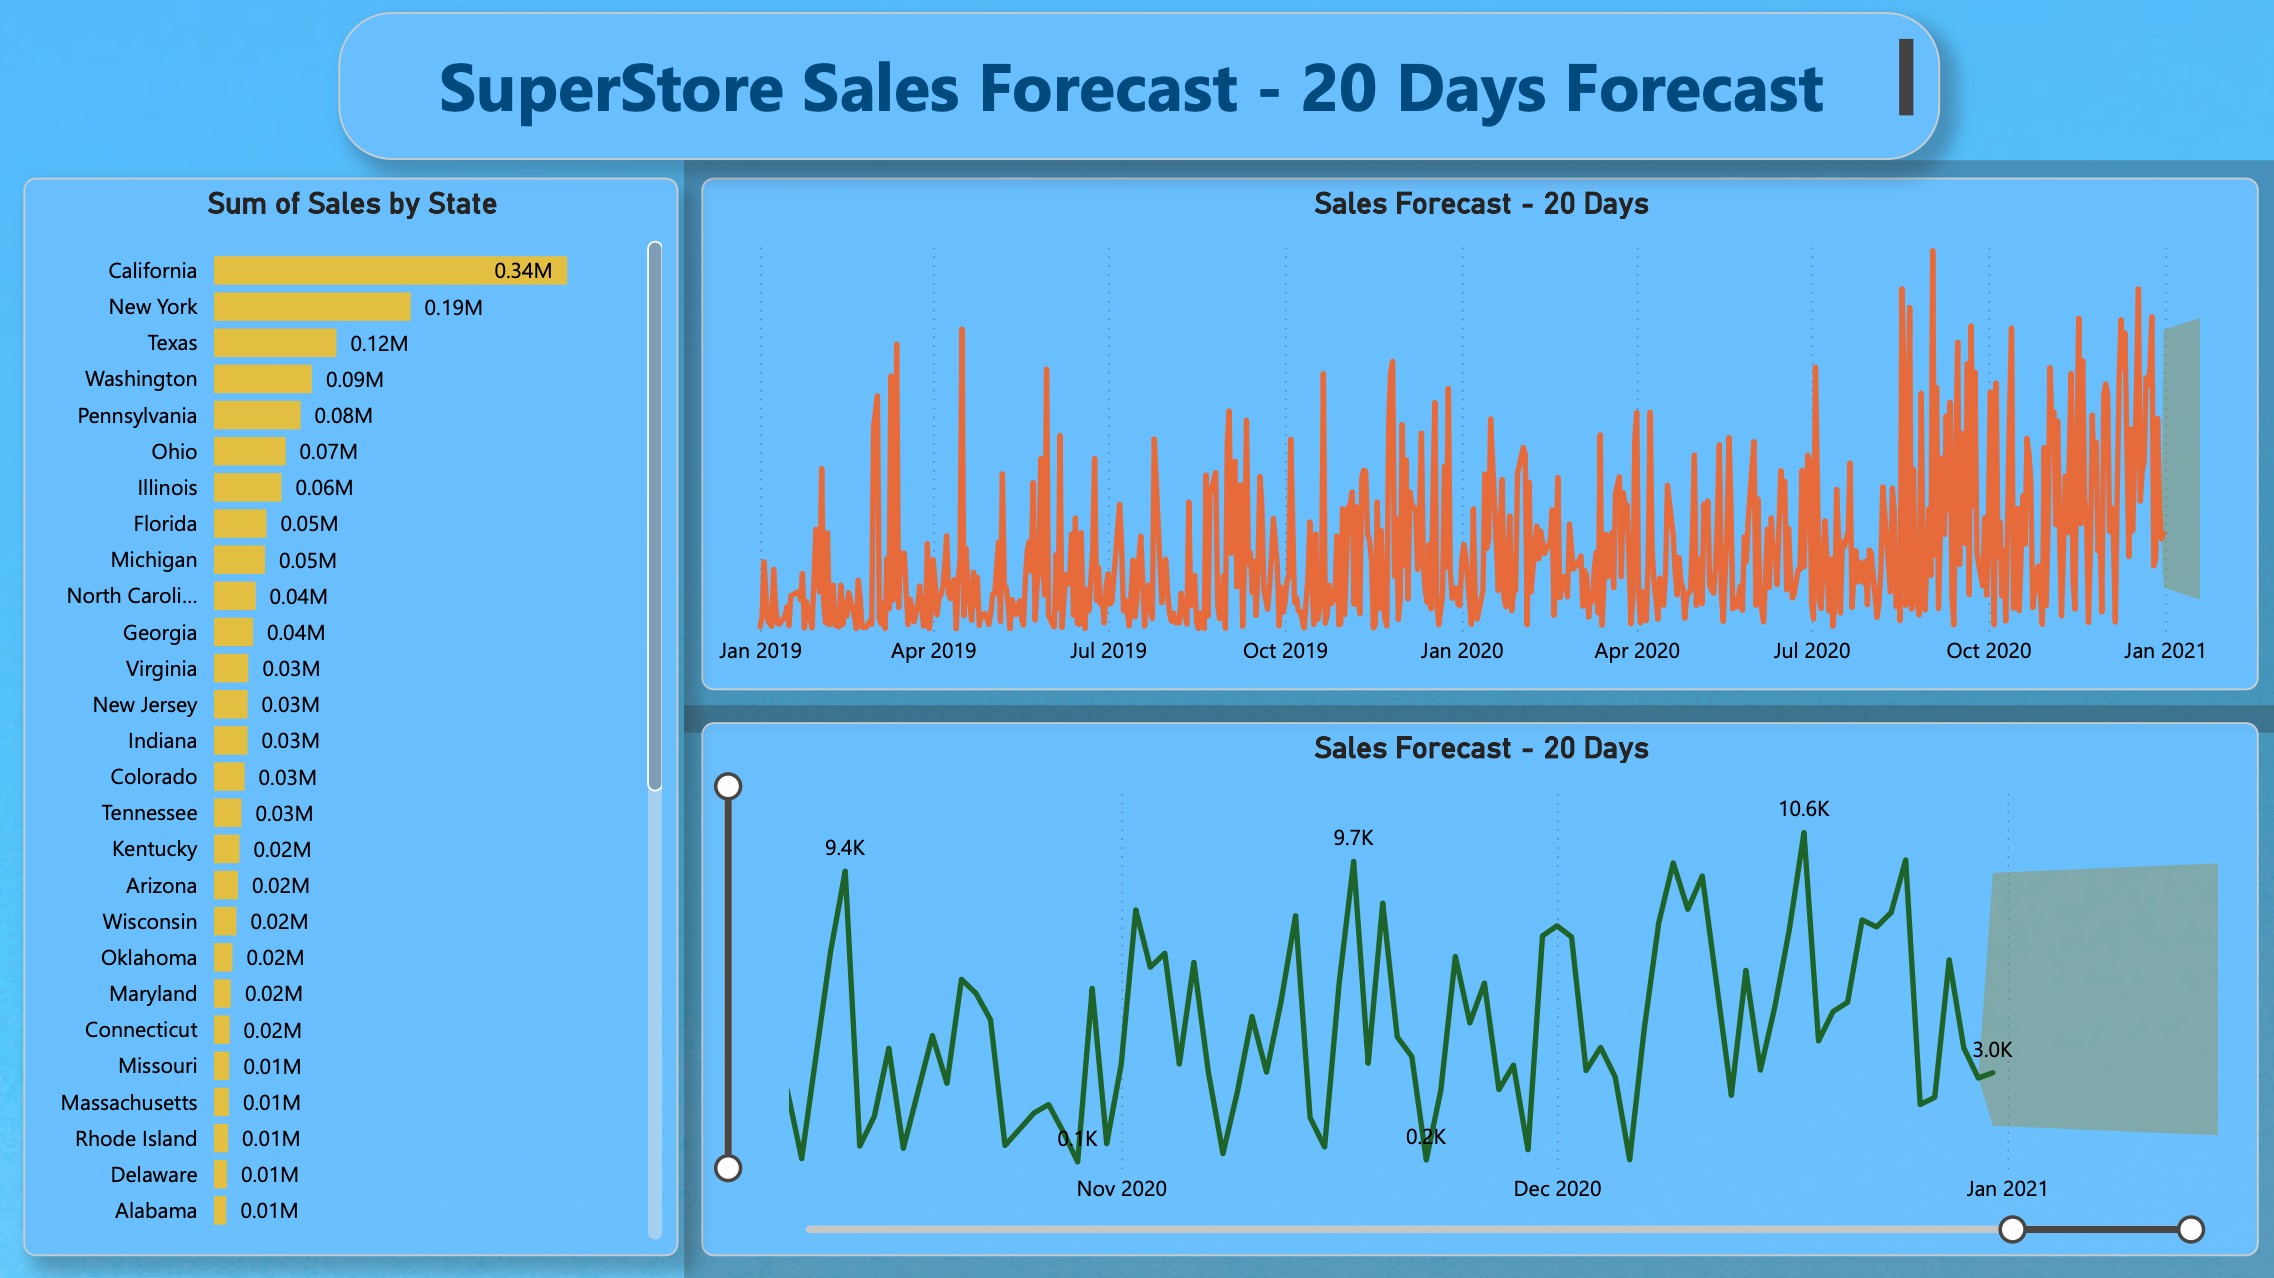

This screenshot's page, from the dashboard's own definition file:
{"tool":"powerbi","page":{"name":"Page 2","canvas":[1280,720],"ordinal":1},"visuals":[{"type":"lineChart","title":"Sales Forecast - 20 Days","fields":{"Y":["Sum(SuperStore_Sales_Dataset.Sales)"],"Category":["SuperStore_Sales_Dataset.Order Date"]},"box":[395.9,101,874.6,288.2],"z":0},{"type":"lineChart","title":"Sales Forecast - 20 Days","fields":{"Y":["Sum(SuperStore_Sales_Dataset.Sales)"],"Category":["SuperStore_Sales_Dataset.Order Date"]},"box":[395.9,407.5,874.6,299.8],"z":1000},{"type":"textbox","box":[192.2,8.3,899.5,82.8],"z":2000},{"type":"clusteredBarChart","fields":{"Y":["Sum(SuperStore_Sales_Dataset.Sales)"],"Category":["SuperStore_Sales_Dataset.State"]},"box":[14.9,101,367.7,606.3],"z":3000}]}

Visuals, with their boxes in screenshot pixels (x1, y1, x2, y2), scaled from the page's 1280x720 canvas onto the 2274x1278 screenshot:
"Sales Forecast - 20 Days" lineChart: (703, 179, 2257, 691)
"Sales Forecast - 20 Days" lineChart: (703, 723, 2257, 1255)
textbox: (341, 15, 1939, 162)
clusteredBarChart - Sum(SuperStore_Sales_Dataset.Sales) x SuperStore_Sales_Dataset.State: (26, 179, 680, 1255)
